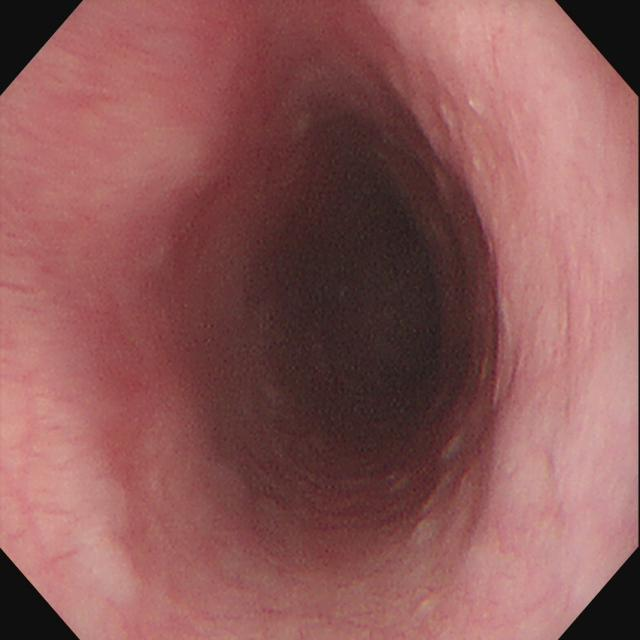E: (327, 206, 433, 419)
